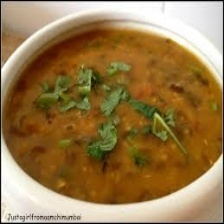sabzi: (3, 26, 224, 206)
